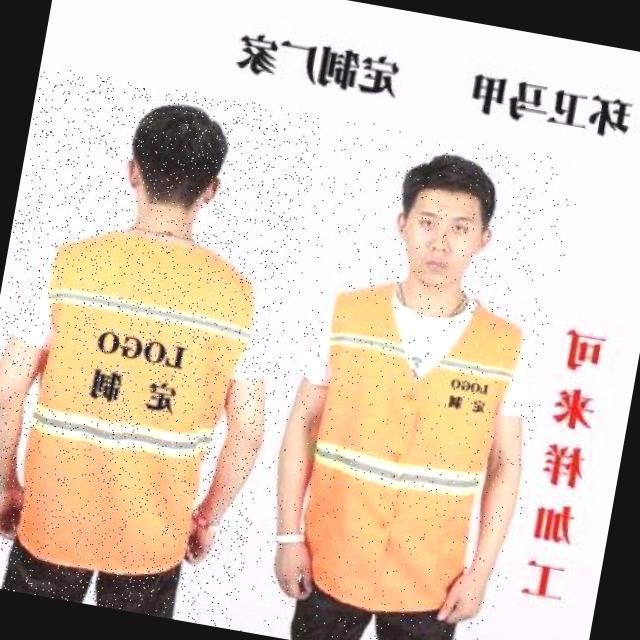no-gloves: (262, 528, 324, 601), (436, 564, 490, 630), (178, 500, 225, 571), (0, 470, 30, 542)
no-helmet: (384, 144, 506, 290), (116, 97, 231, 232)
vest: (0, 210, 267, 597), (280, 276, 526, 625)
